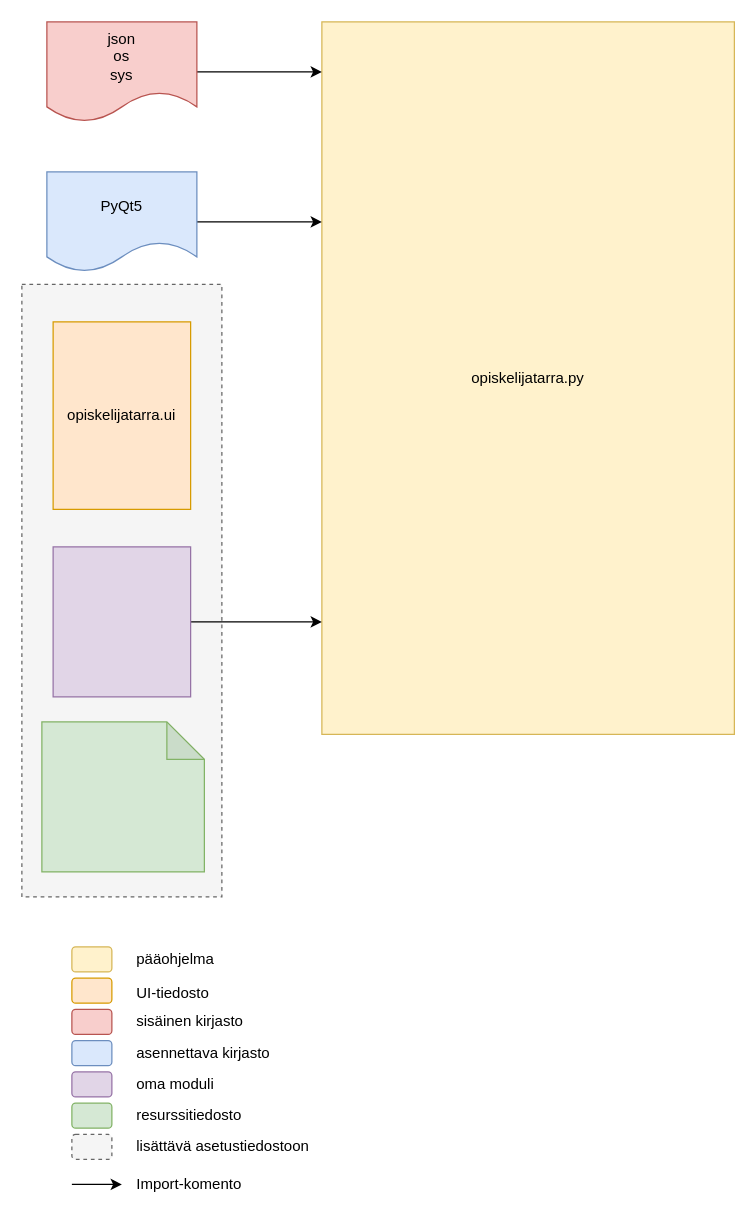
Image size: 756x1225. Some labels were removed from this diagram. The shapes that lost their labels are listed below. From the top down, each one's centre as x and y in pixels, then its label:
At pixel 121 621: "code128Bcode.py".
At pixel 122 796: "studentSticker.settings placeholder.png placeholder2.jpg".
